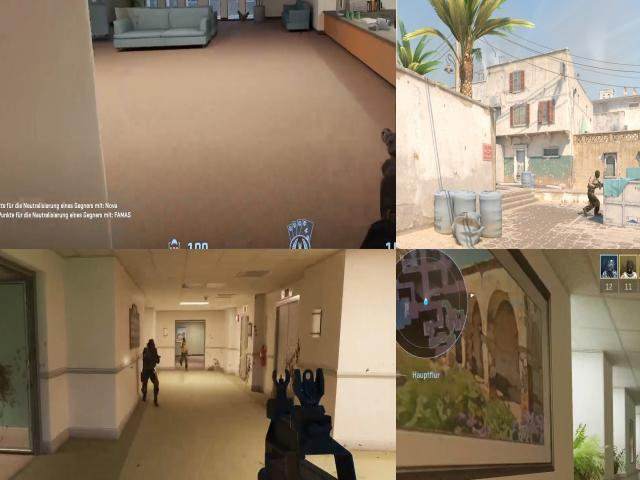CT: (142, 339, 158, 382)
CT-Head: (146, 338, 158, 354)
T: (584, 170, 603, 215), (180, 336, 189, 366)
T-Head: (595, 170, 600, 178), (182, 337, 186, 344)
